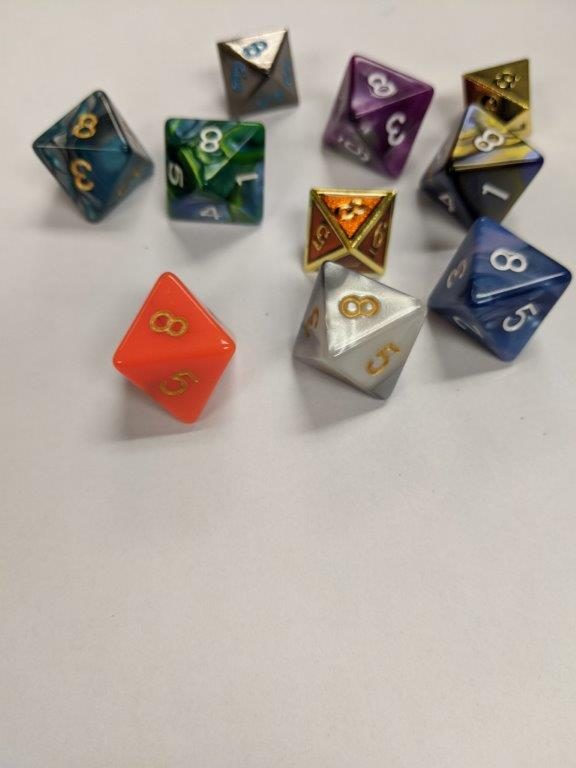d8-8: (429, 213, 574, 364), (291, 258, 428, 404), (115, 267, 239, 427), (29, 91, 154, 231), (418, 99, 544, 233), (322, 52, 434, 176), (161, 115, 265, 228), (302, 184, 396, 279), (217, 27, 297, 122), (461, 54, 535, 136)
